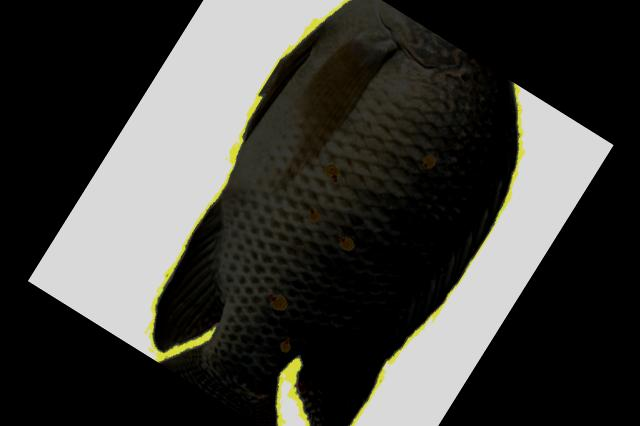Parasitic Disease: (154, 0, 516, 426)
